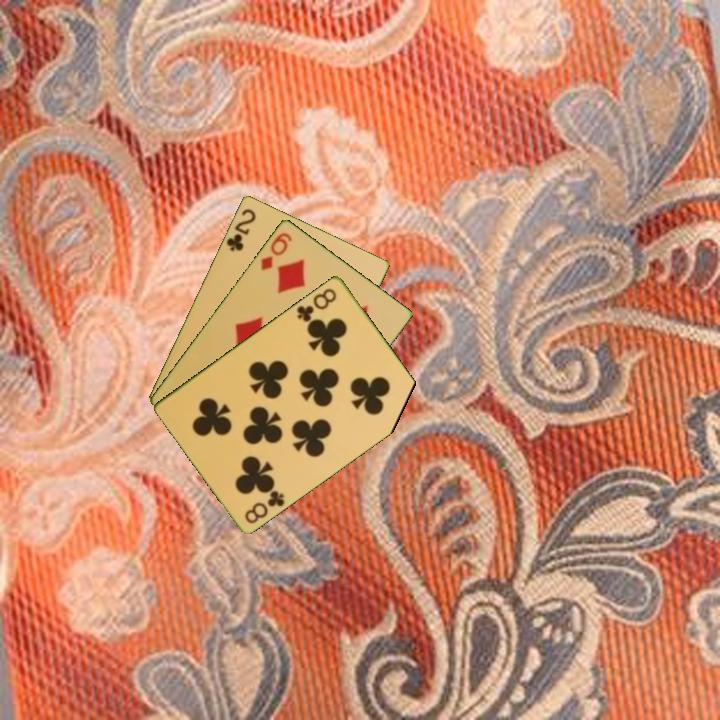2c: (223, 205, 259, 254)
6d: (257, 228, 295, 273)
8c: (293, 284, 340, 325), (241, 486, 288, 526)
